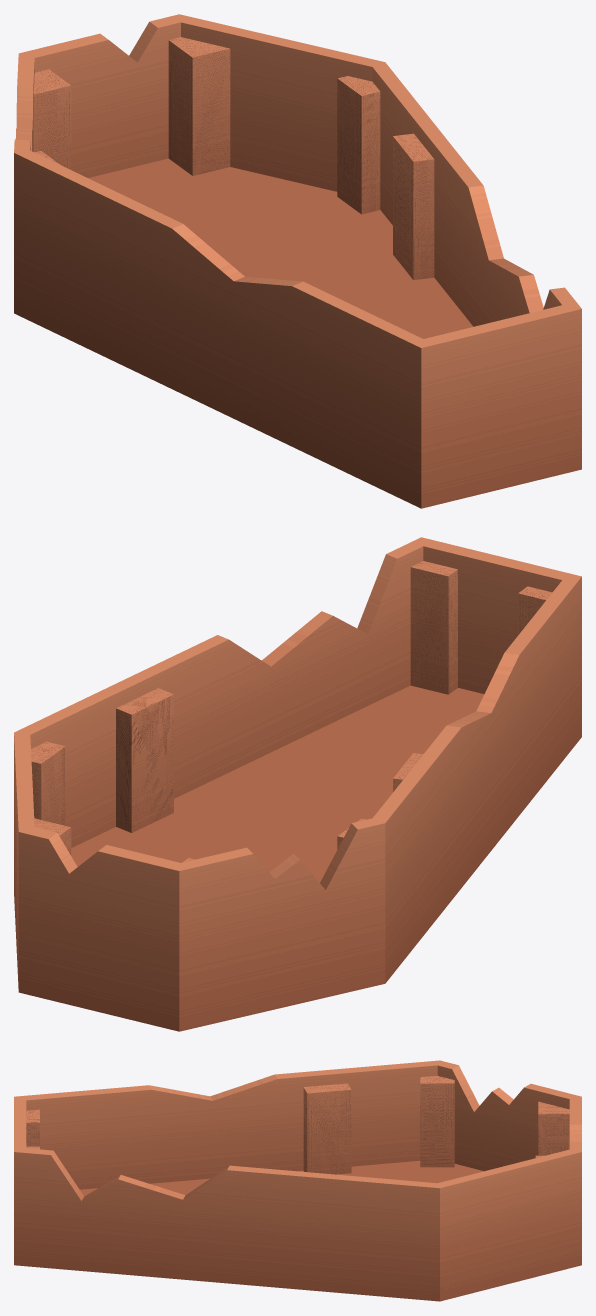
The model's file is coffin-old_lev2.glb.
3 views of the same model, one above another, from view 1: azimuth 30°, elevation 25°; view 2: azimuth 150°, elevation 25°; view 3: azimuth 270°, elevation 25° (orthographic). The views are drawn at different scales.
Parts seen in each view (by area): view 1: coffin-old_lev2; view 2: coffin-old_lev2; view 3: coffin-old_lev2.
Part boxes in pixels (x1=…): coffin-old_lev2: x1=14, y1=14, x2=581, y2=508; coffin-old_lev2: x1=14, y1=537, x2=581, y2=1031; coffin-old_lev2: x1=14, y1=1060, x2=581, y2=1301.
Bounding box in the file's own units: 1.28 × 0.5303 × 2.41.
1 material, 1 textured.
